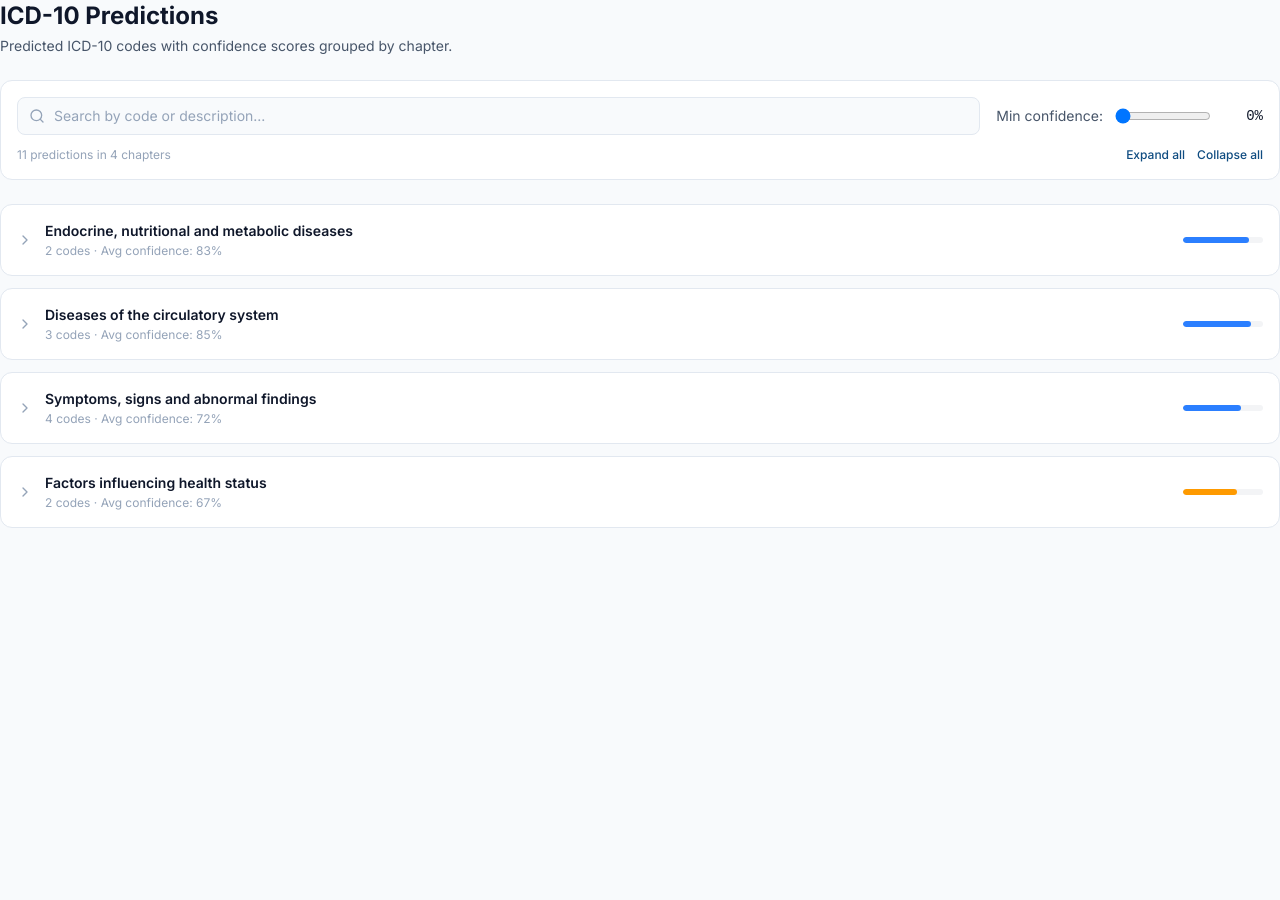
ICDResults › "Expand all" reveals all codes
The width and height of the screenshot is (1280, 900).
Click the button "Expand all". click: x=1156, y=155
box: [1126,147,1185,163]
(page scrolled)
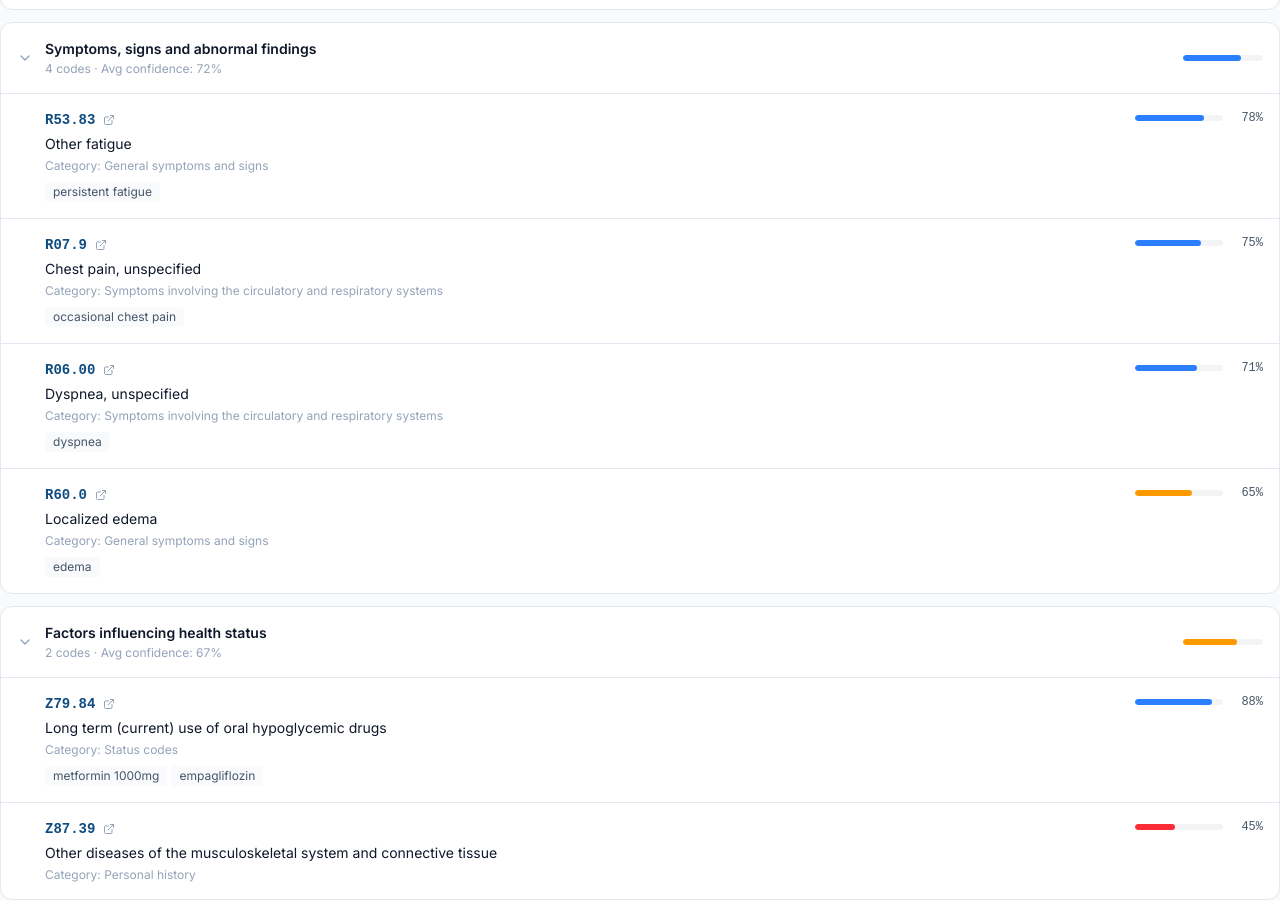
Expected: the text "R53.83" is shown, [45,110,95,130]
Expected: the text "Z79.84" is shown, [45,694,95,714]
